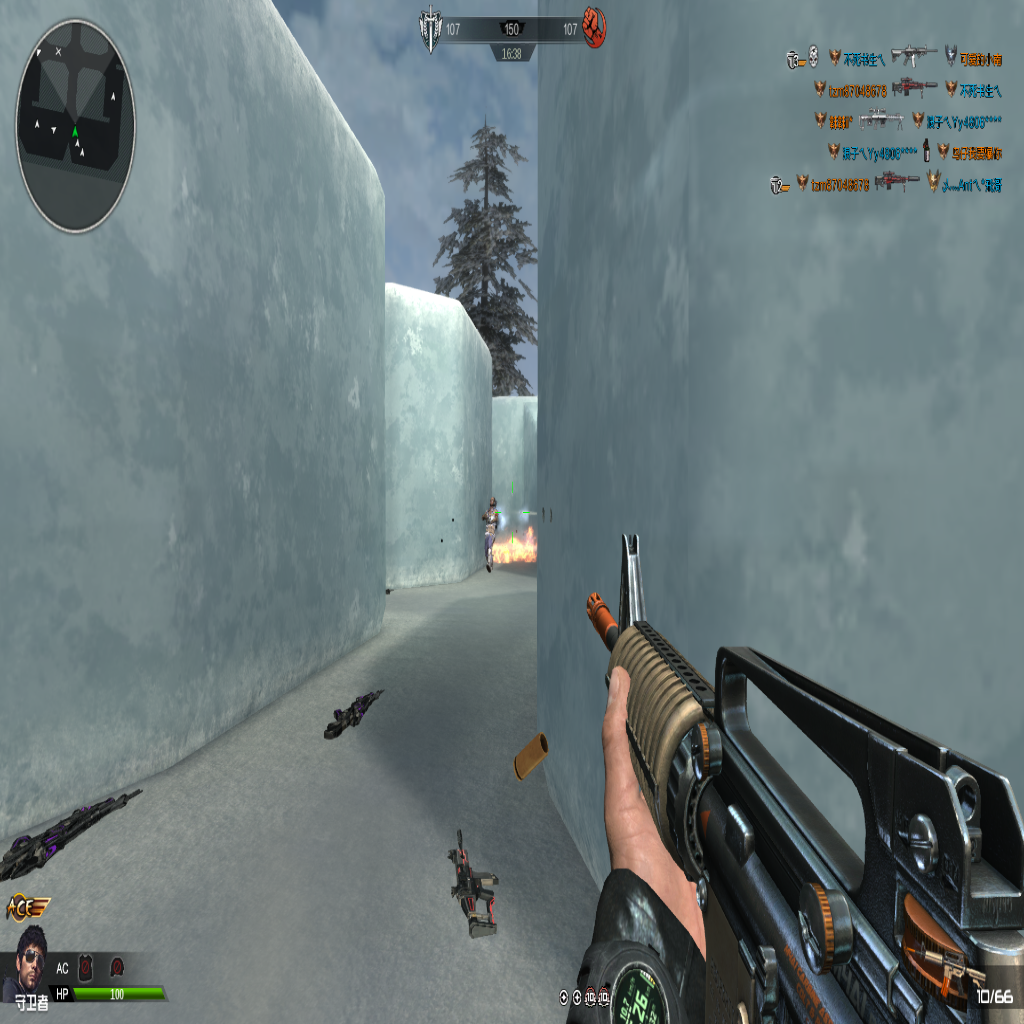tt: (482, 495, 499, 569)
